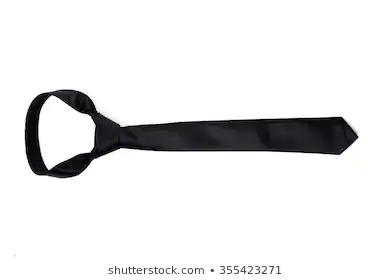F_tie: (13, 82, 363, 182)
